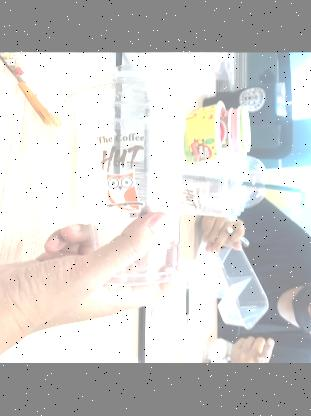Others: (66, 60, 190, 287)
